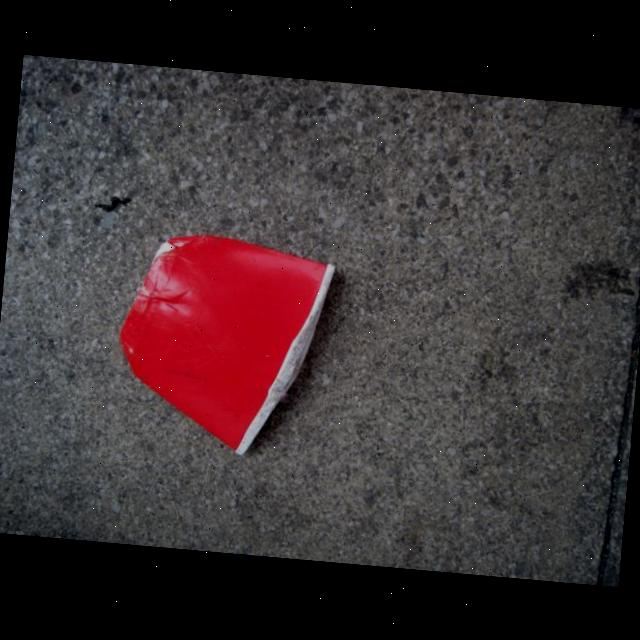trash: (105, 223, 338, 470)
